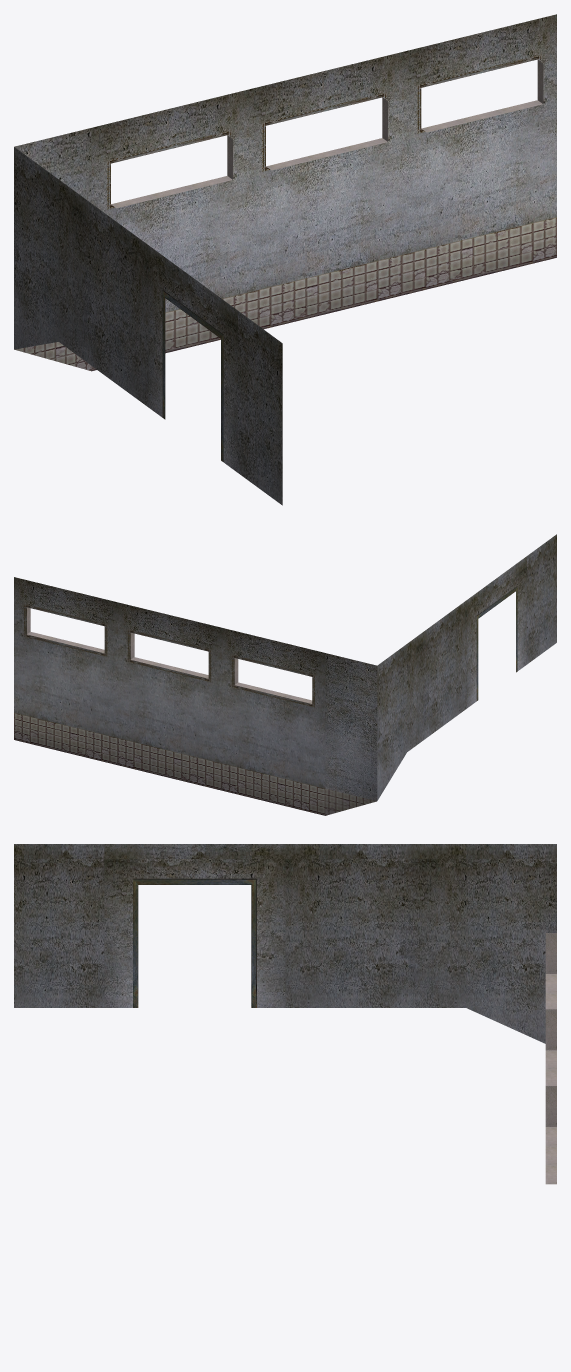
Rendered from M11Z2_SCUDHouse03_D.glb.
The picture shows the model from 3 angles, top to bottom: view 1: azimuth 30°, elevation 25°; view 2: azimuth 150°, elevation 25°; view 3: azimuth 270°, elevation 25°; orthographic projection. The views are drawn at different scales.
Visible parts, largest first — view 1: M11Z2_SCUDHOUSE03_D; view 2: M11Z2_SCUDHOUSE03_D; view 3: M11Z2_SCUDHOUSE03_D.
Boxes of the visible parts, <box> form: M11Z2_SCUDHOUSE03_D: <box>14,14,556,505</box>; M11Z2_SCUDHOUSE03_D: <box>14,534,556,815</box>; M11Z2_SCUDHOUSE03_D: <box>14,844,556,1184</box>.
Size of the model in its own units: 14 by 6 by 12.
4 materials, 4 textured.
